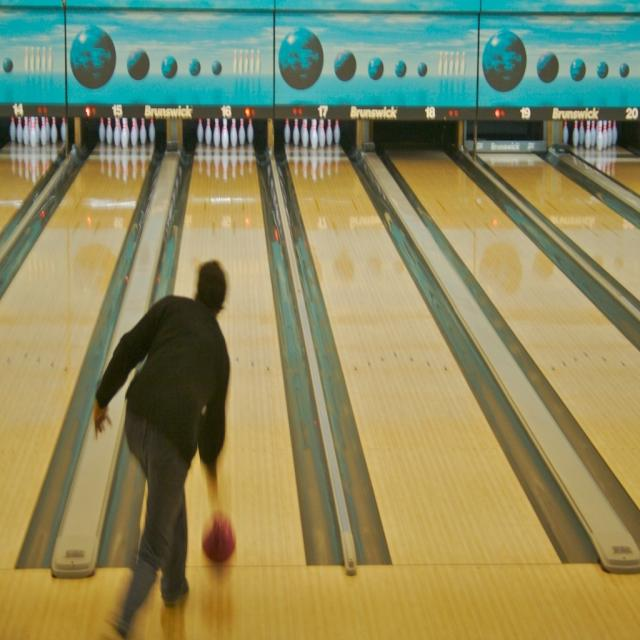Ball: (201, 510, 236, 562)
